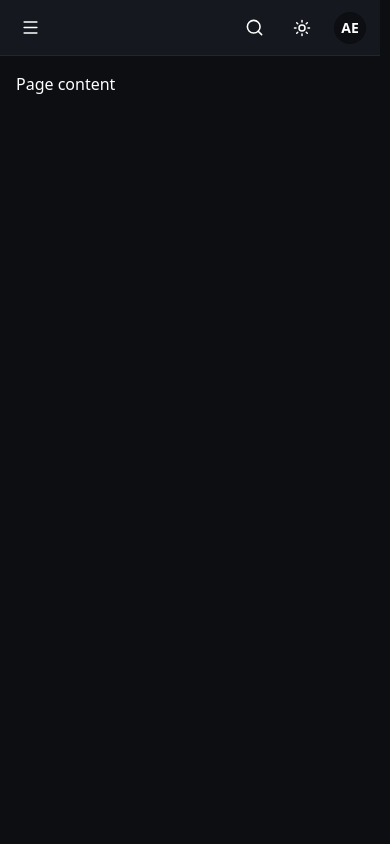
it: AppShell › opens the mobile navigation drawer and closes it with Escape
Click the button named "Open navigation menu" at (30, 28), box [8, 6, 52, 50]
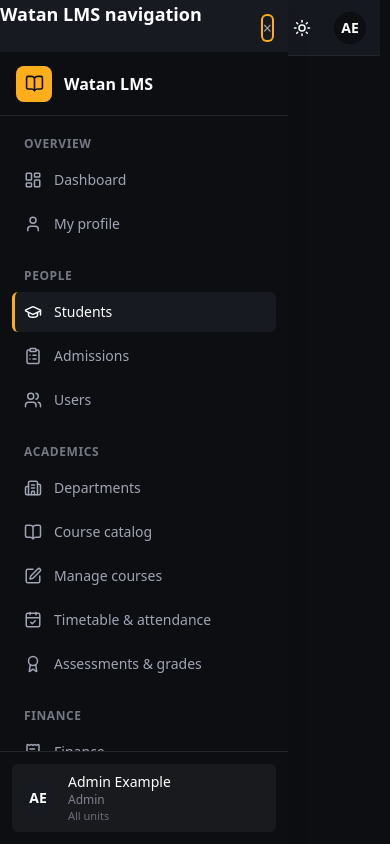
Expected: the dialog "Watan LMS navigation" is shown
Expected: the navigation bar named "Main navigation" is shown, [0, 116, 288, 750]
Press Escape
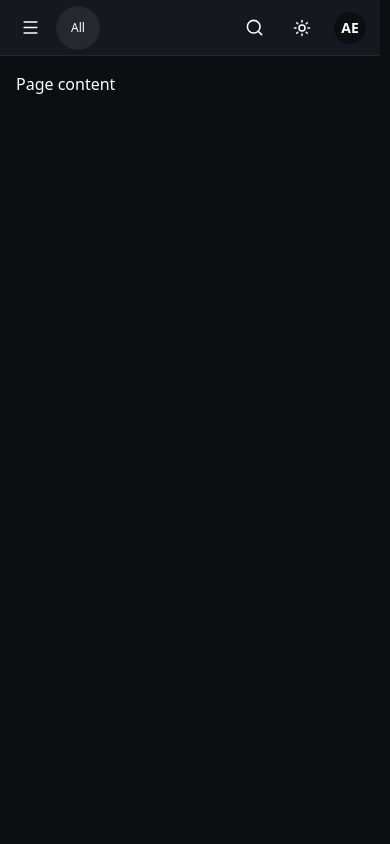
Expected: the heading "Watan LMS navigation" is gone
